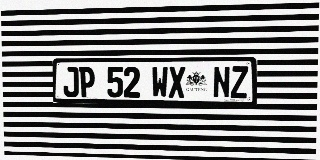2: (124, 67, 140, 98)
5: (107, 67, 123, 97)
J: (63, 67, 79, 97)
N: (213, 66, 230, 98)
P: (79, 67, 95, 97)
W: (152, 66, 168, 98)
X: (169, 66, 185, 98)
Z: (231, 66, 248, 98)
